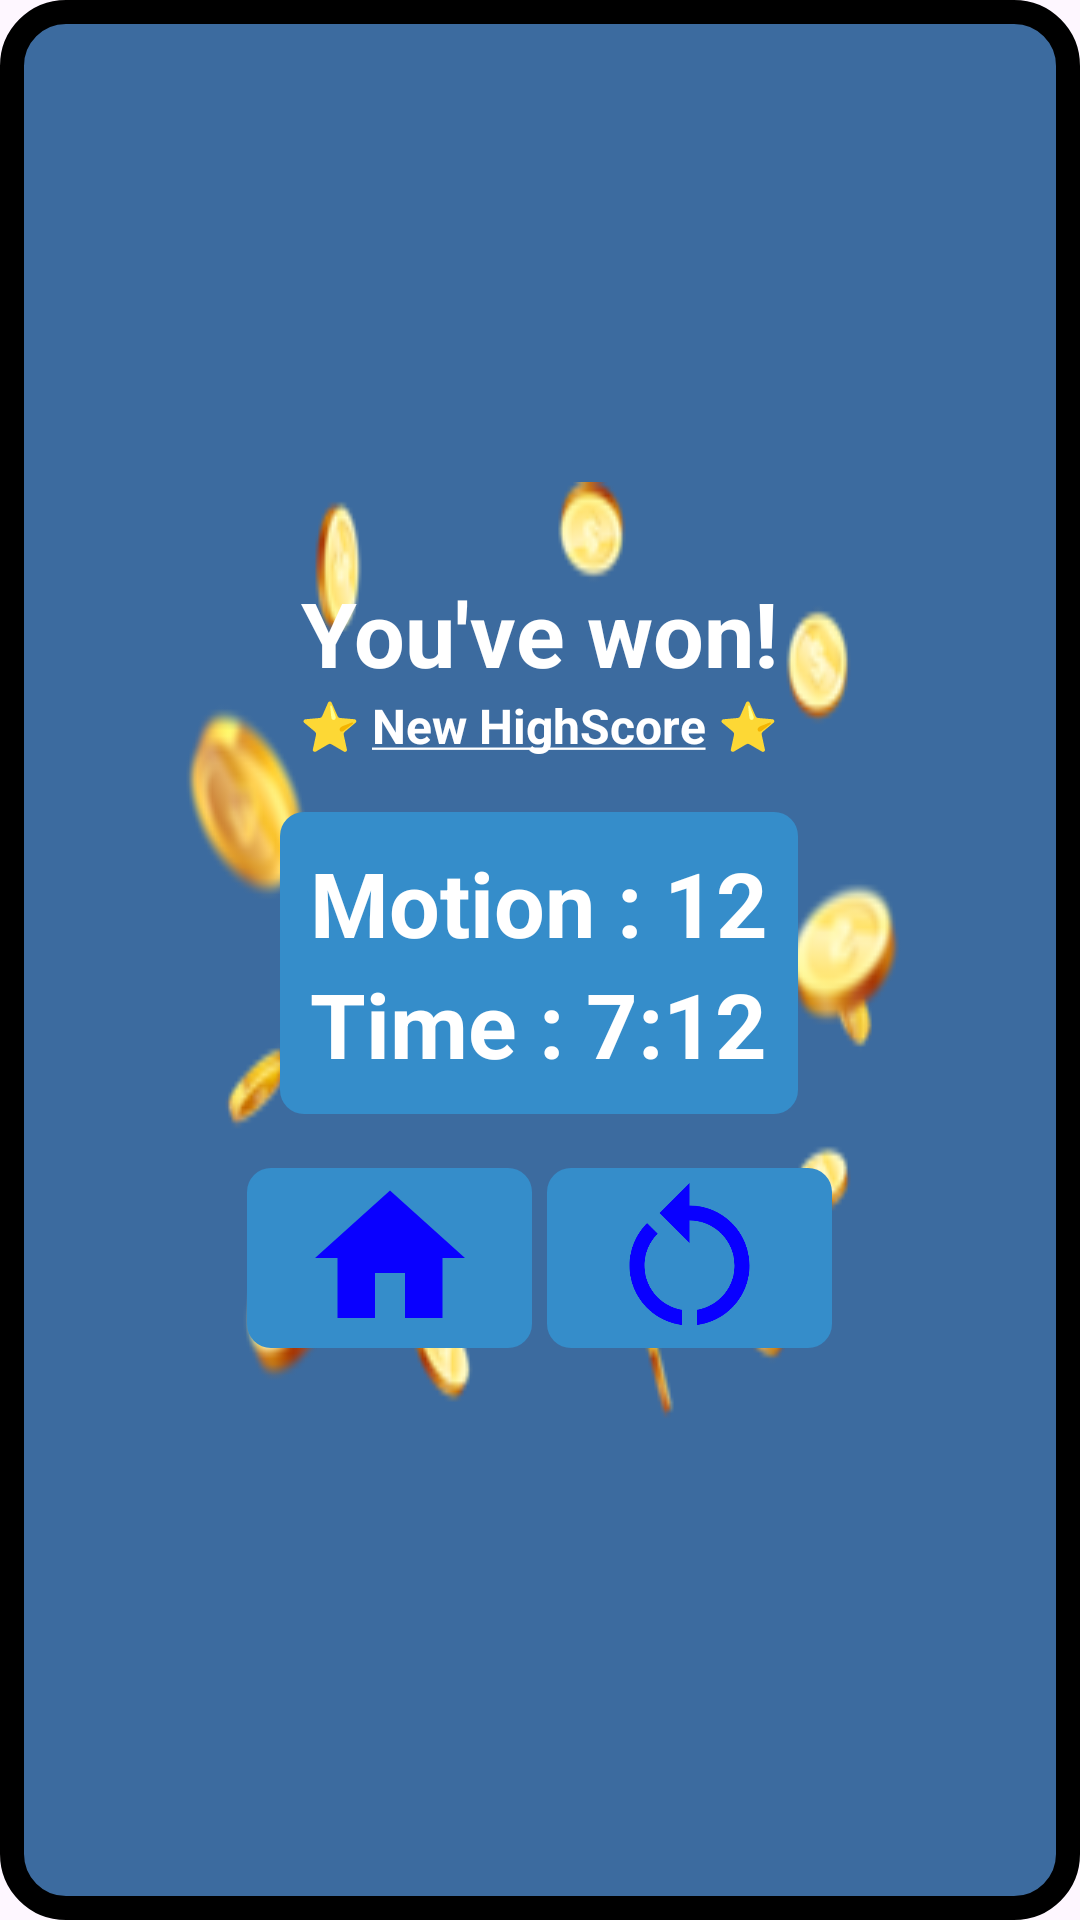

Screen size 1080x1920. Icon name, then its center in pixels as (x,y):
home main: (389,1258)
restart: (689,1258)
